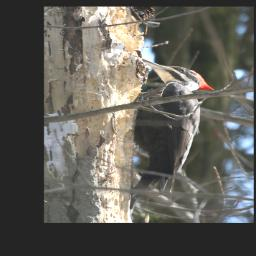Woodpecker: (132, 58, 215, 215)
